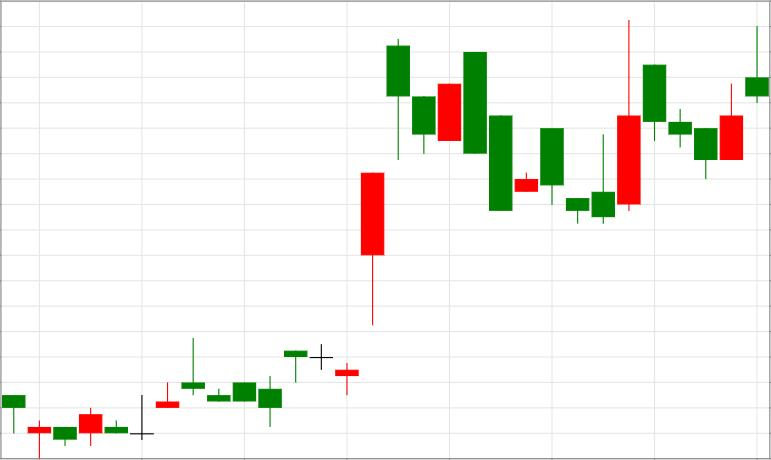inverse_hammer_rise: (463, 51, 616, 224)
